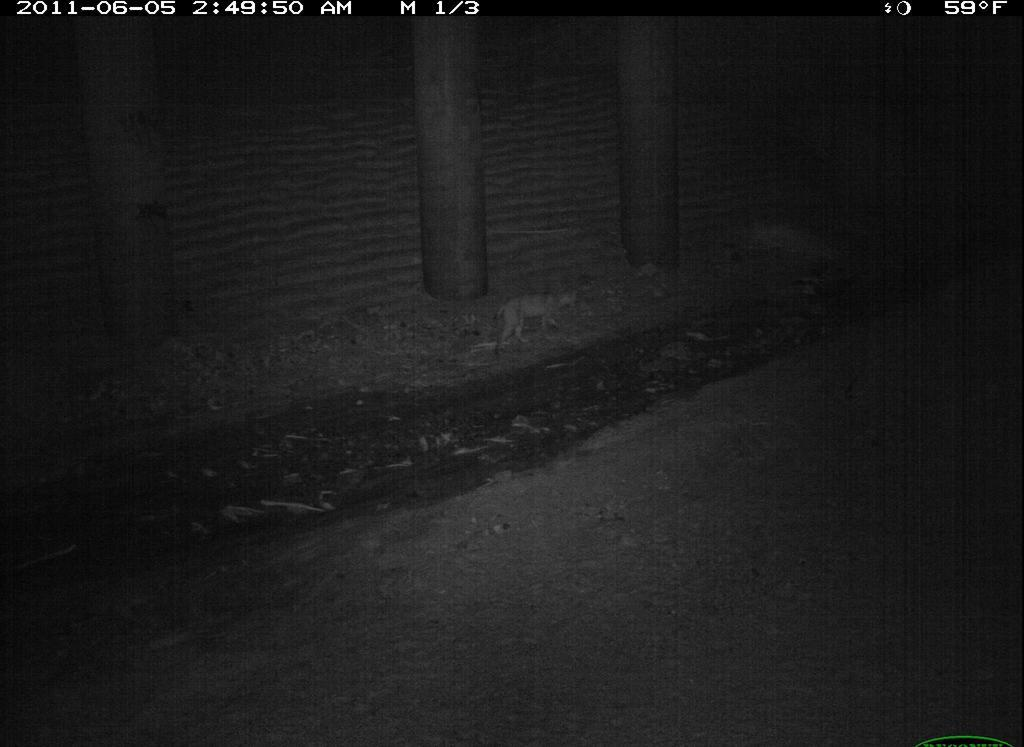bobcat: (977, 561, 1024, 726)
